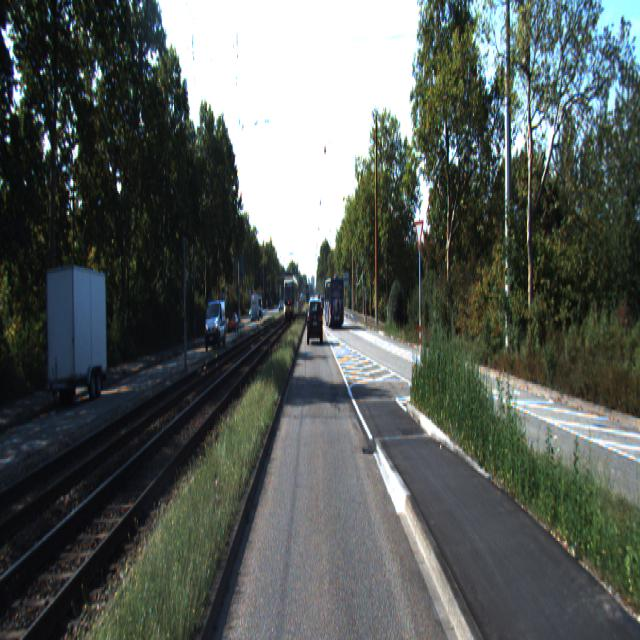Car: (46, 267, 109, 411), (204, 300, 227, 352), (324, 276, 344, 330), (308, 298, 322, 344)
